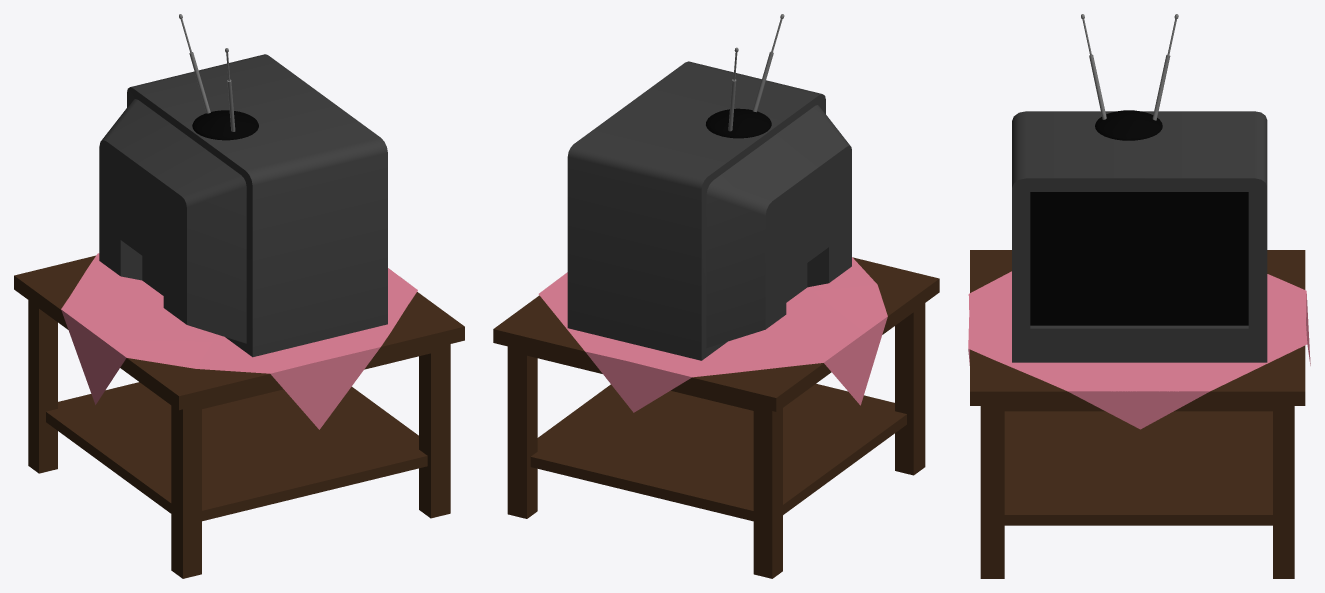
The model's file is Television.fbx.
3 renders of one model, left to right at view 1: azimuth 30°, elevation 25°; view 2: azimuth 150°, elevation 25°; view 3: azimuth 270°, elevation 25°, orthographic. The views are drawn at different scales.
Parts seen in each view (by area): view 1: Cube; view 2: Cube; view 3: Cube.
Boxes of the visible parts, bbox=[...] form: Cube: bbox=[14, 14, 464, 578]; Cube: bbox=[493, 14, 939, 578]; Cube: bbox=[968, 14, 1310, 578].
Size of the model in its own units: 581 by 905 by 586.
